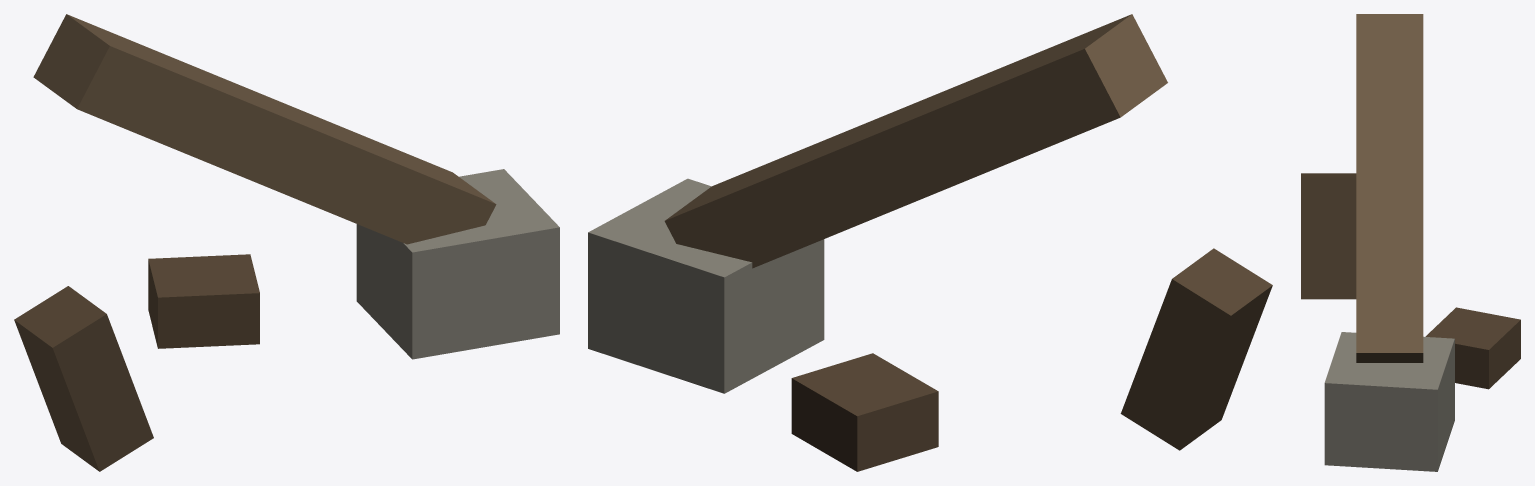
Rendered from leaning_beam.glb.
3 views of the same model, side by side, from view 1: azimuth 30°, elevation 25°; view 2: azimuth 150°, elevation 25°; view 3: azimuth 270°, elevation 25° (orthographic). The views are drawn at different scales.
Visible parts, largest first — view 1: leaning_beam; view 2: leaning_beam; view 3: leaning_beam.
Part boxes in pixels (x1=…): leaning_beam: x1=14, y1=14, x2=559, y2=471; leaning_beam: x1=588, y1=14, x2=1272, y2=471; leaning_beam: x1=1301, y1=14, x2=1520, y2=471.
Size of the model in its own units: 2.43 by 1.67 by 1.12.
1 material, 1 textured.
